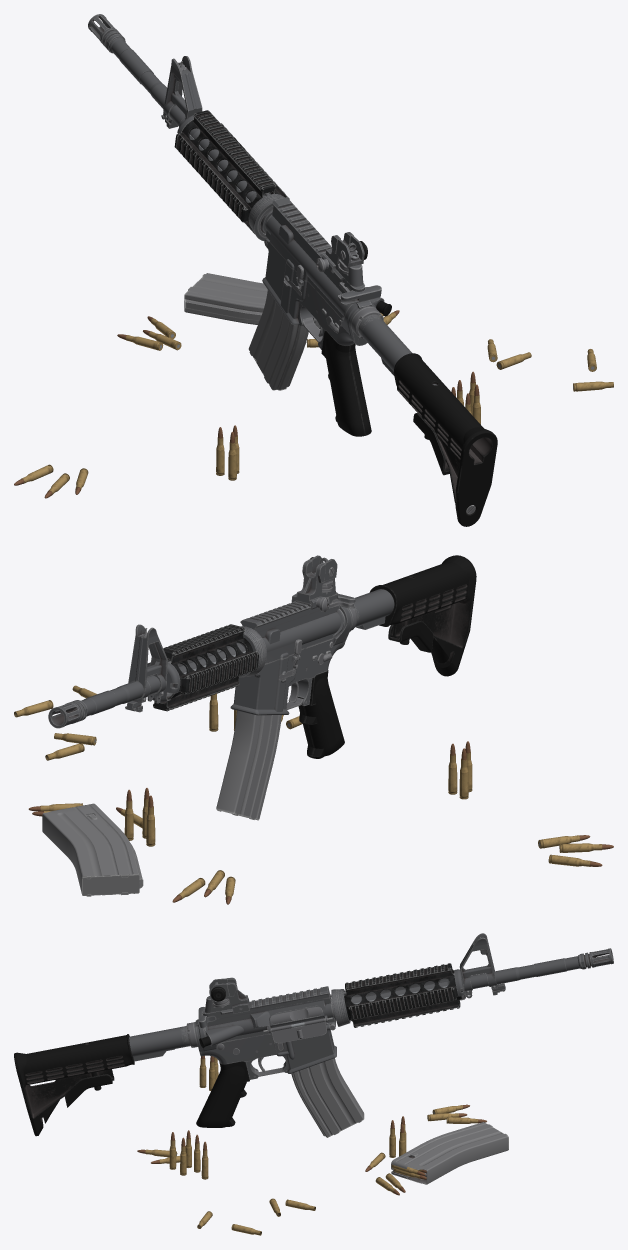
The model's file is m4a1_single.glb.
3 views of the same model, one above another, from view 1: azimuth 30°, elevation 25°; view 2: azimuth 150°, elevation 25°; view 3: azimuth 270°, elevation 25° (orthographic). The views are drawn at different scales.
Visible parts, largest first — view 1: base, part_low, magazine, magazine.002, rear sight.001; view 2: base, part_low, magazine.002, magazine, rear sight.001; view 3: base, part_low, magazine.002, magazine, rear sight.001, part.043_low, bolt.
Boxes of the visible parts, x1,y1,x2,y2 form: base: (88, 14, 436, 436); part_low: (393, 353, 497, 526); magazine: (248, 290, 308, 390); magazine.002: (184, 273, 320, 329); rear sight.001: (315, 232, 367, 287); base: (48, 589, 394, 758); part_low: (369, 555, 476, 676); magazine.002: (42, 803, 143, 896); magazine: (216, 710, 281, 820); rear sight.001: (291, 555, 337, 612); base: (129, 933, 613, 1127); part_low: (14, 1034, 134, 1136); magazine.002: (391, 1122, 508, 1184); magazine: (291, 1058, 364, 1137); rear sight.001: (205, 977, 249, 1013); part.043_low: (271, 1018, 326, 1043); bolt: (270, 1007, 322, 1023).
Size of the model in its own units: 0.727 by 0.3137 by 0.8537.
2 materials, 2 textured.
